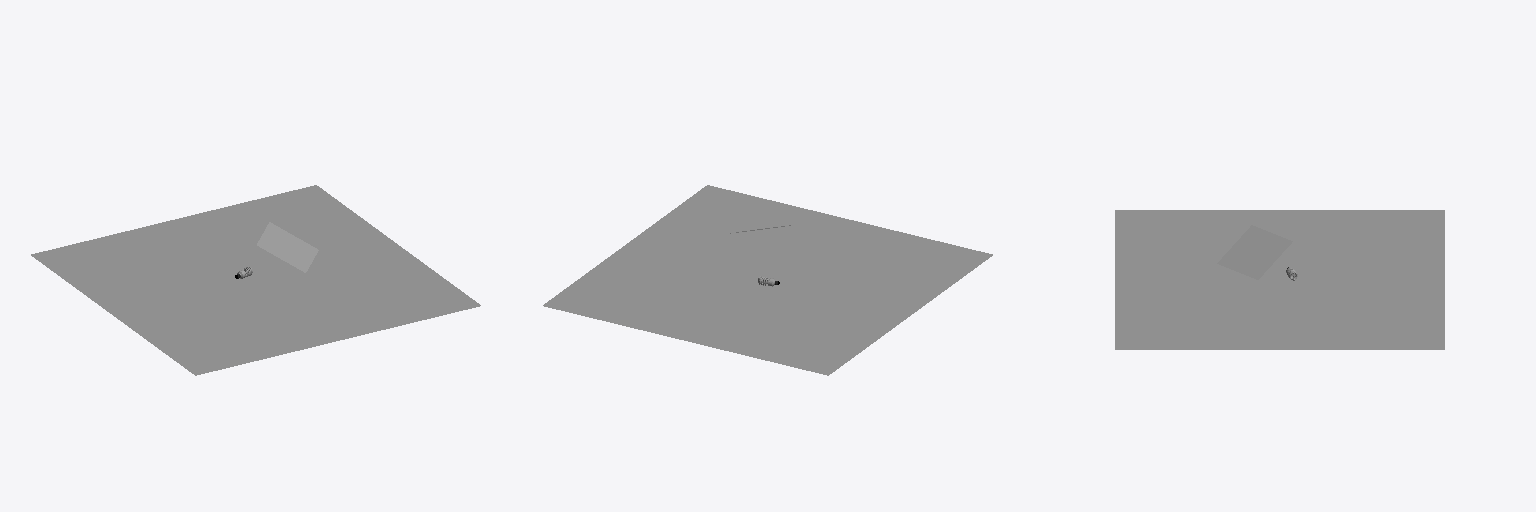
The model's file is energy_saving_lightbulb.obj.
3 views of the same model, side by side, from view 1: azimuth 30°, elevation 25°; view 2: azimuth 150°, elevation 25°; view 3: azimuth 270°, elevation 25° (orthographic).
Parts seen in each view (by area): view 1: floor_Plane.001, Plane; view 2: floor_Plane.001; view 3: floor_Plane.001, Plane.
Boxes of the visible parts, x1=… form: floor_Plane.001: x1=31, y1=185, x2=480, y2=375; Plane: x1=257, y1=222, x2=318, y2=272; floor_Plane.001: x1=543, y1=185, x2=992, y2=375; floor_Plane.001: x1=1115, y1=210, x2=1444, y2=349; Plane: x1=1217, y1=225, x2=1292, y2=279.
Bounding box in the file's own units: 146 × 23.69 × 146.